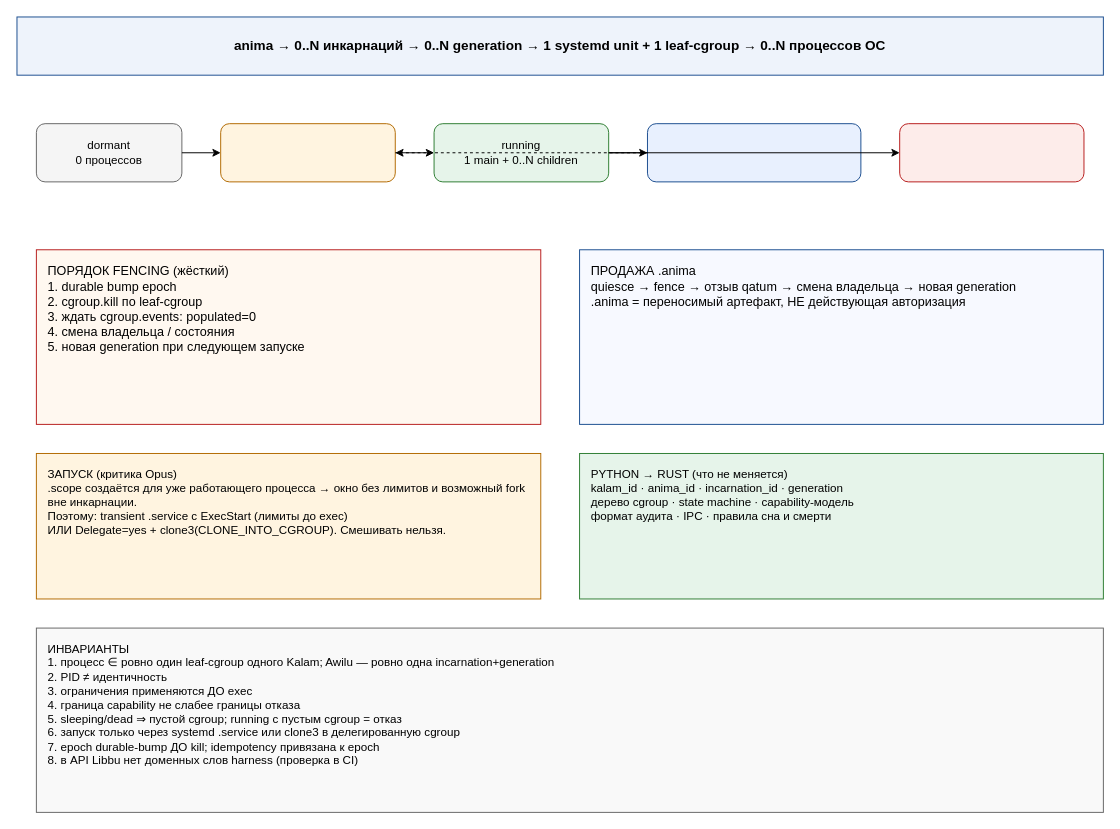
Some shapes in this 1120 by 829 pixel diagram are drawn without their labels. The shapes that lost their labels are listed below. From the top down, each one's centre as x and y in pixels, then its label:
point (307, 152): starting unit создан, limits до exec
point (754, 152): sleeping checkpoint, cgroup пуст, unit удалён
point (991, 152): dead 0 процессов, epoch fenced
